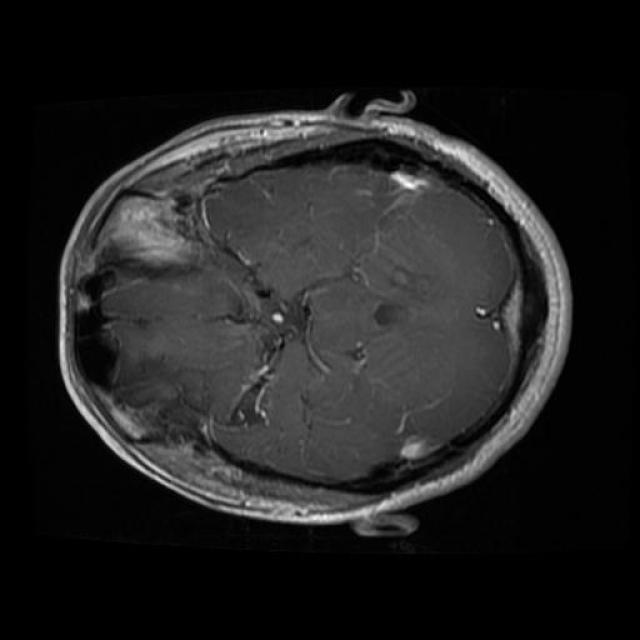Glioma: (79, 195, 205, 279)
